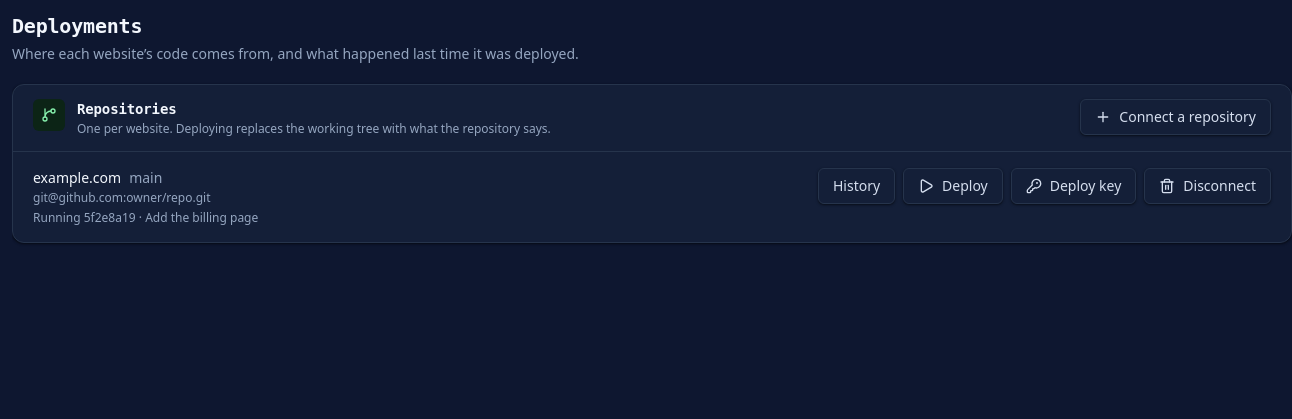
Test: DeploymentsPage › says what a rollback did and did not restore
The image size is (1292, 419).
Click the button "History": (856, 186) top-left (818, 168), bottom-right (895, 204)
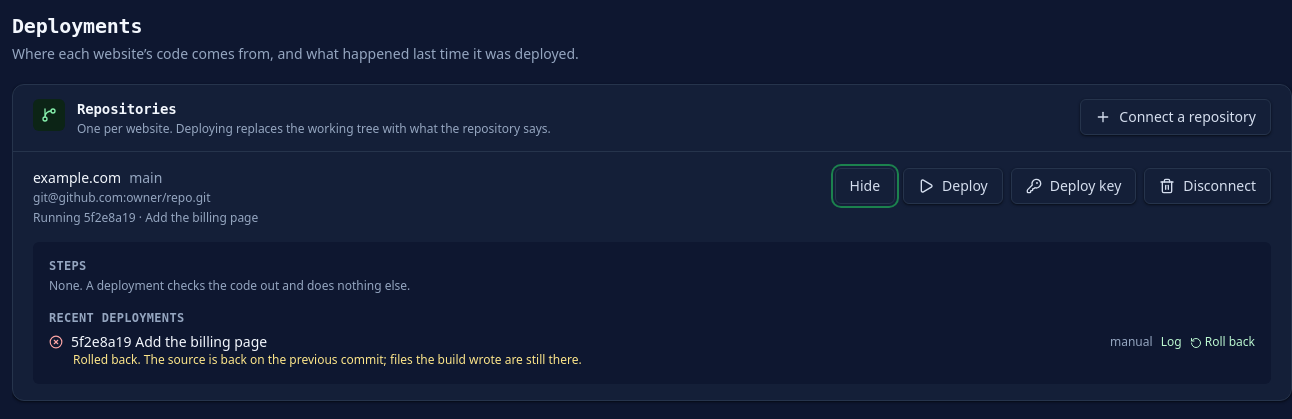
Expected: the text "files the build wrote are still there" is shown, top-left (73, 351), bottom-right (582, 368)
